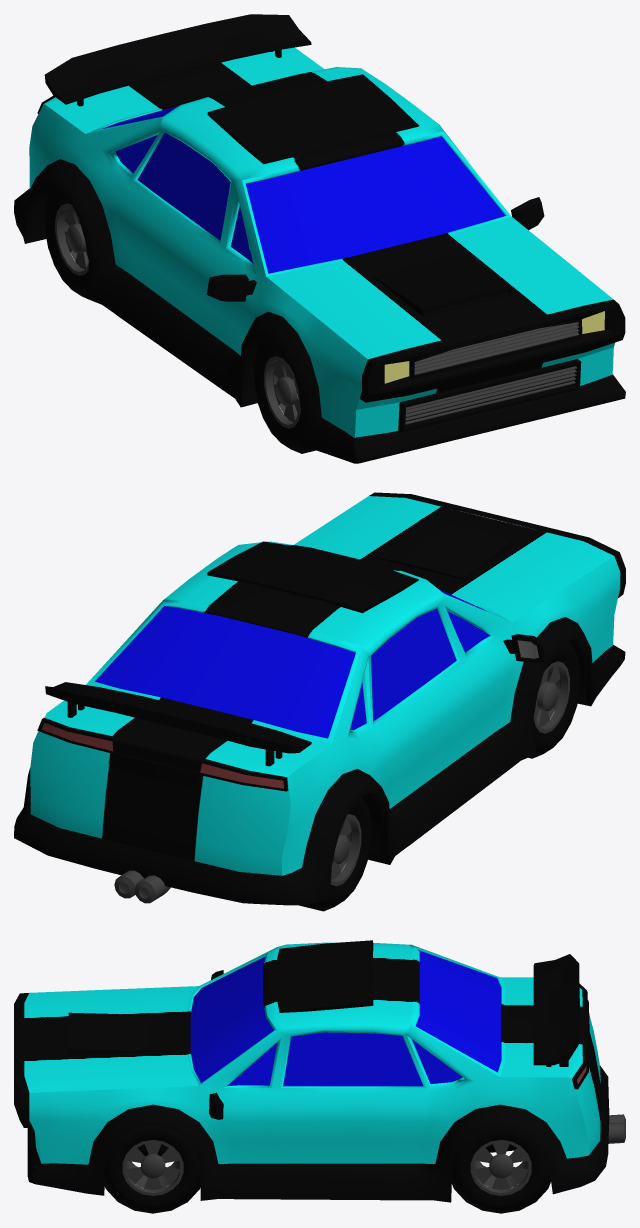
Rendered from Muscle Evolution3 Black LineBlackCyan Blue DarkGrey.glb.
The picture shows the model from 3 angles, top to bottom: view 1: azimuth 30°, elevation 25°; view 2: azimuth 150°, elevation 25°; view 3: azimuth 270°, elevation 25°; orthographic projection. The views are drawn at different scales.
Parts seen in each view (by area): view 1: evo3_body1_f1_dupl, evo3_sill3_f1_dupl, evo3_frontGlass_f1_dupl, evo3_rooftop3_f1_dupl, evo3_spoiler3_f1_dupl, evo3_frontBlockGrid3_f1_dupl, evo3_glasseBigR_f1_dupl, evo3_airtrap_front4_f1_dupl, evo3_blockgrid3_f1_dupl, evo3_gridfrontbot3_f1_dupl, evo3_gridfrontup3_f1_dupl, evo3_tire_rf1_f1_dupl (+6 smaller); view 2: evo3_body1_f1_dupl, evo3_sill3_f1_dupl, evo3_BackGlassGlass_f1_dupl, evo3_rooftop3_f1_dupl, evo3_spoiler3_f1_dupl, evo3_glasseBigR_f1_dupl, evo3_airtrap_front4_f1_dupl, evo3_blockbacklight_f1_dupl, evo3_rim_A_rf_f1_dupl, evo3_tire_rf1_f1_dupl, evo3_tire_rf_f1_dupl, evo3_frontBlockGrid3_f1_dupl (+6 smaller); view 3: evo3_body1_f1_dupl, evo3_sill3_f1_dupl, evo3_BackGlassGlass_f1_dupl, evo3_glasseBigL_f1_dupl, evo3_frontGlass_f1_dupl, evo3_rooftop3_f1_dupl, evo3_spoiler3_f1_dupl, evo3_tire_lf_f1_dupl, evo3_tire_lb_f1_dupl, evo3_airtrap_front4_f1_dupl, evo3_rim_A_lf_f1_dupl, evo3_rim_A_lb_f1_dupl (+5 smaller).
Boxes of the visible parts, x1,y1,x2,y2 form: evo3_body1_f1_dupl: (29, 47, 614, 438); evo3_sill3_f1_dupl: (14, 159, 625, 463); evo3_frontGlass_f1_dupl: (246, 136, 505, 273); evo3_rooftop3_f1_dupl: (207, 74, 419, 164); evo3_spoiler3_f1_dupl: (44, 14, 311, 106); evo3_frontBlockGrid3_f1_dupl: (360, 299, 625, 402); evo3_glasseBigR_f1_dupl: (137, 133, 230, 240); evo3_airtrap_front4_f1_dupl: (373, 254, 512, 316); evo3_blockgrid3_f1_dupl: (398, 359, 581, 432); evo3_gridfrontbot3_f1_dupl: (405, 366, 577, 424); evo3_gridfrontup3_f1_dupl: (414, 322, 579, 374); evo3_tire_rf1_f1_dupl: (253, 336, 315, 453); evo3_body1_f1_dupl: (30, 496, 620, 875); evo3_sill3_f1_dupl: (14, 617, 625, 905); evo3_BackGlassGlass_f1_dupl: (95, 606, 355, 738); evo3_rooftop3_f1_dupl: (207, 541, 418, 613); evo3_spoiler3_f1_dupl: (45, 682, 311, 766); evo3_glasseBigR_f1_dupl: (371, 608, 456, 721); evo3_airtrap_front4_f1_dupl: (374, 518, 512, 579); evo3_blockbacklight_f1_dupl: (37, 718, 288, 791); evo3_rim_A_rf_f1_dupl: (533, 661, 569, 733); evo3_tire_rf1_f1_dupl: (528, 641, 580, 758); evo3_tire_rf_f1_dupl: (299, 796, 371, 911); evo3_frontBlockGrid3_f1_dupl: (369, 492, 625, 597); evo3_body1_f1_dupl: (24, 942, 601, 1164); evo3_sill3_f1_dupl: (27, 1065, 609, 1202); evo3_BackGlassGlass_f1_dupl: (415, 950, 501, 1072); evo3_glasseBigL_f1_dupl: (283, 1032, 423, 1086); evo3_frontGlass_f1_dupl: (190, 956, 273, 1083); evo3_rooftop3_f1_dupl: (276, 940, 373, 1012); evo3_spoiler3_f1_dupl: (533, 954, 579, 1066); evo3_tire_lf_f1_dupl: (104, 1125, 200, 1213); evo3_tire_lb_f1_dupl: (451, 1127, 550, 1213); evo3_airtrap_front4_f1_dupl: (68, 1012, 150, 1055); evo3_rim_A_lf_f1_dupl: (122, 1140, 183, 1195); evo3_rim_A_lb_f1_dupl: (470, 1140, 531, 1195).
Size of the model in its own units: 177 by 116 by 335.
8 materials, 1 textured.
